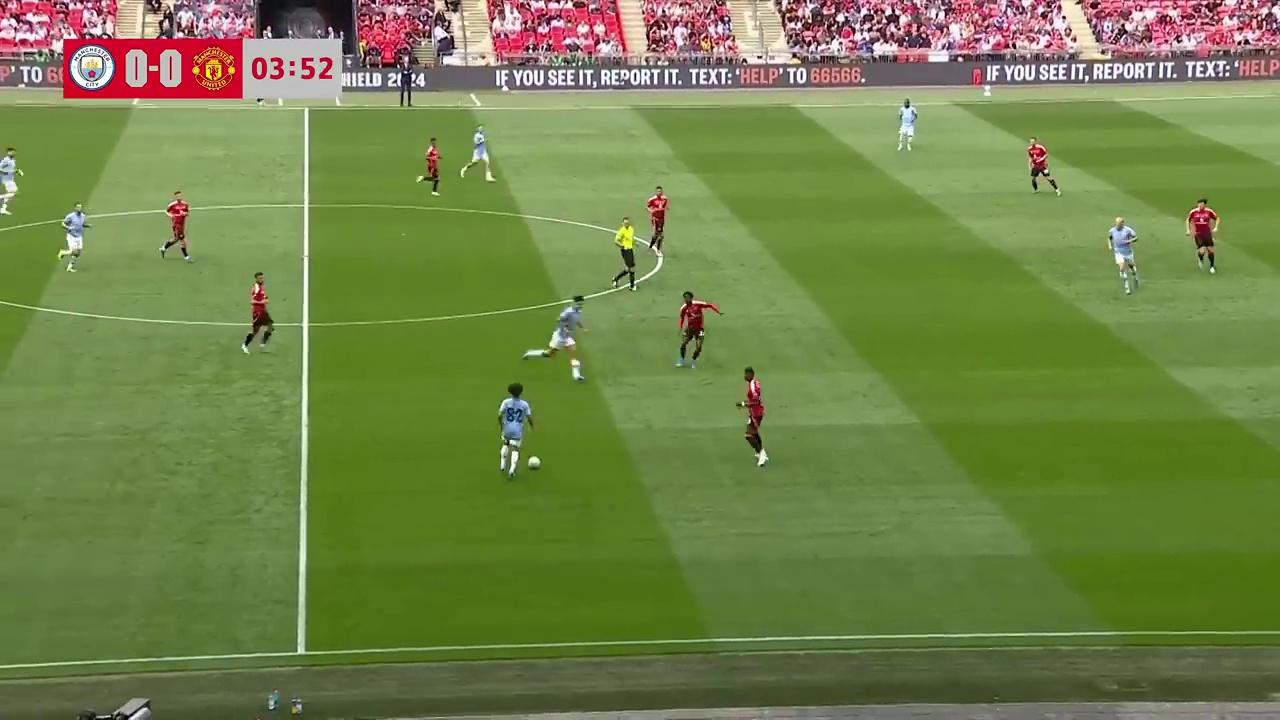ball: (526, 454, 540, 470)
player: (535, 297, 587, 379), (495, 383, 537, 478), (675, 291, 723, 368), (738, 367, 767, 467), (241, 272, 275, 354), (1185, 197, 1219, 272), (1107, 216, 1139, 293), (160, 190, 192, 262), (59, 202, 91, 272), (1026, 137, 1061, 195), (460, 126, 494, 181), (646, 186, 669, 256), (0, 147, 23, 213), (417, 137, 441, 195), (896, 98, 919, 151)
referee: (612, 216, 638, 290)
